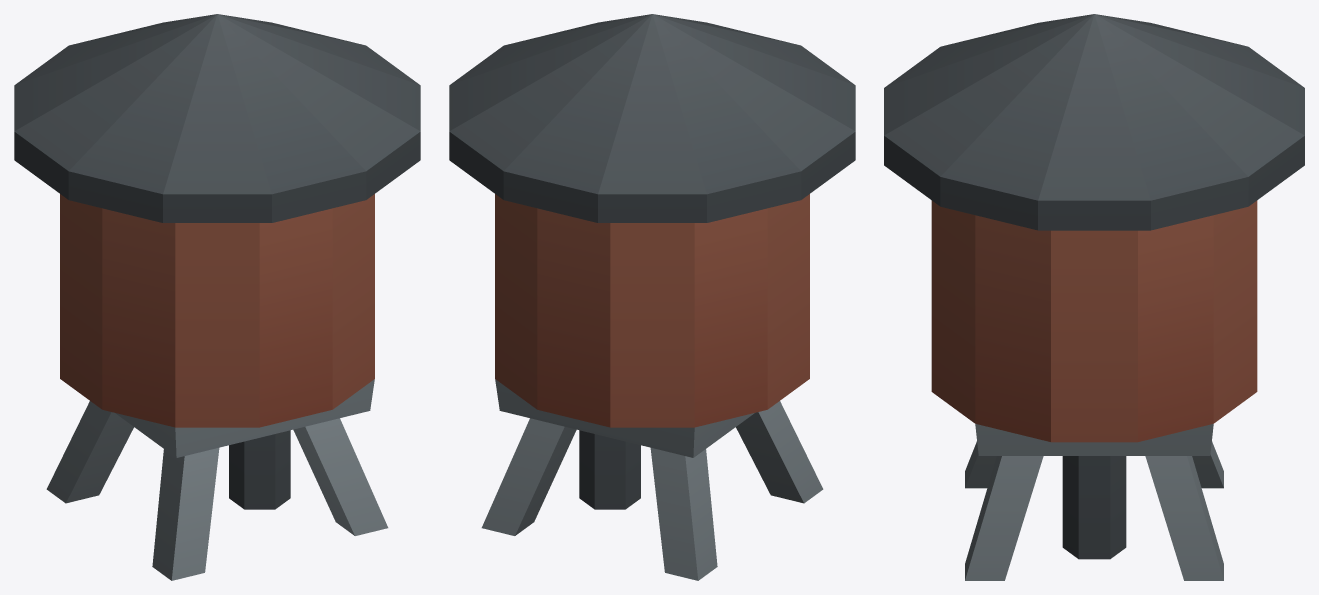
The model's file is watertower.obj.
3 views of the same model, side by side, from view 1: azimuth 30°, elevation 25°; view 2: azimuth 150°, elevation 25°; view 3: azimuth 270°, elevation 25° (orthographic). The views are drawn at different scales.
Bounding box in the file's own units: 0.4989 × 0.67 × 0.4989.
Materials: 1 (1 with a texture image).
